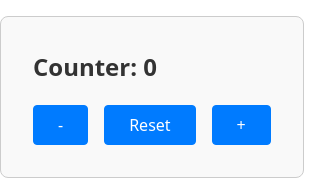
Scenario: Counter › decrements count when - button is clicked
The image size is (321, 195).
Click the button named "decrement" at [61, 125], box [33,105,88,145]
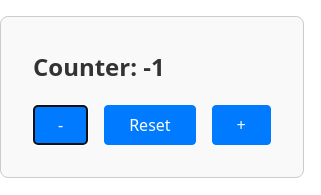
Result: the heading "Counter: -1" is shown at [33,50,165,83]
